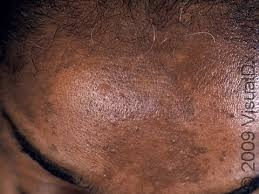Melasma: (57, 18, 239, 190)
